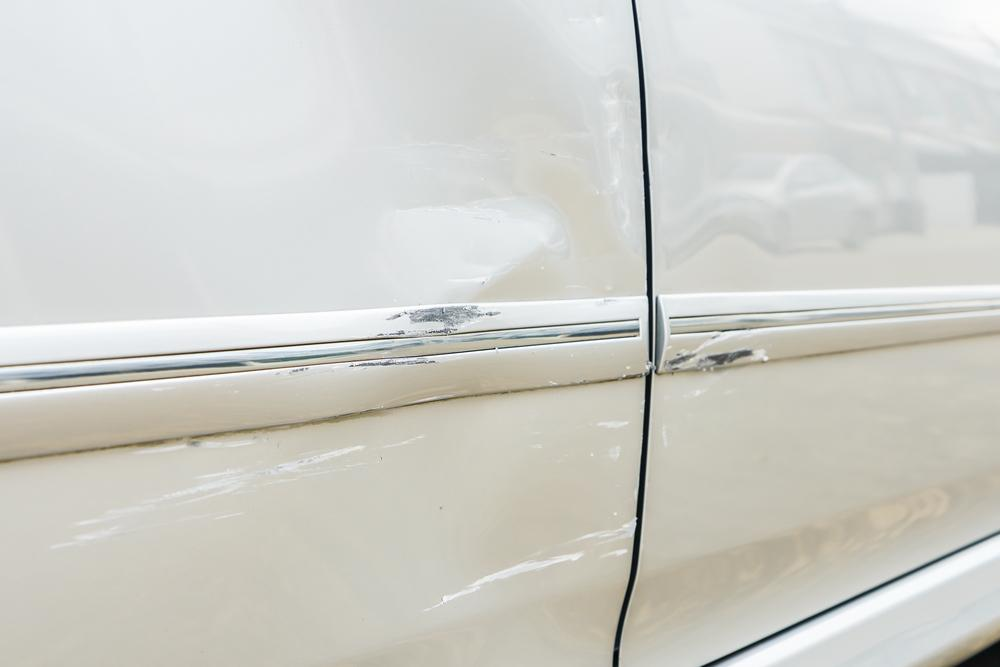dent: (340, 8, 646, 297)
scratch: (52, 427, 446, 558), (427, 509, 642, 609), (238, 303, 515, 378), (655, 318, 780, 391)
